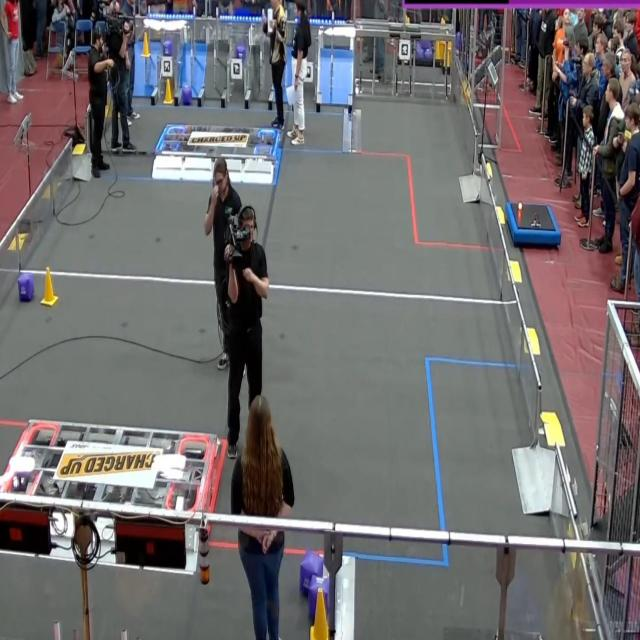frc_cone: (310, 589, 330, 640), (40, 266, 58, 306), (140, 32, 150, 58), (164, 80, 174, 106), (434, 39, 440, 64), (443, 46, 449, 70), (438, 41, 444, 60)
frc_cube: (299, 552, 323, 594), (310, 574, 331, 619), (17, 273, 34, 301), (181, 86, 192, 105), (424, 44, 434, 62), (162, 42, 173, 58), (417, 49, 425, 64), (237, 46, 245, 60)
